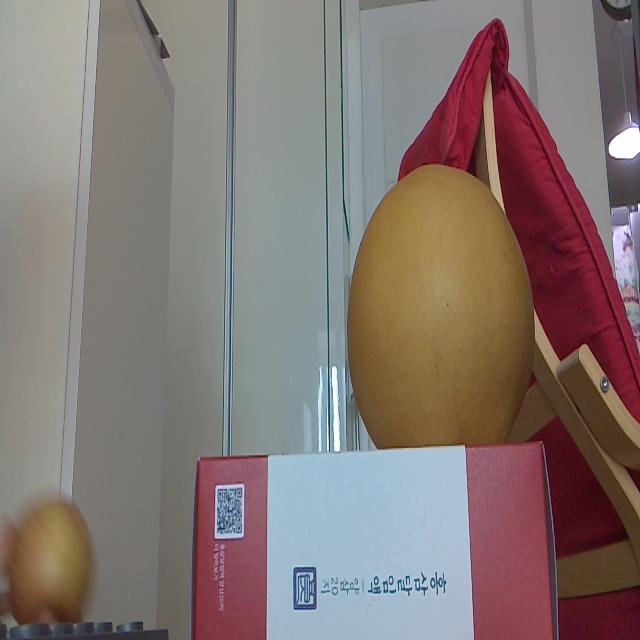apple: (4, 485, 94, 626)
pear: (344, 159, 536, 446)
